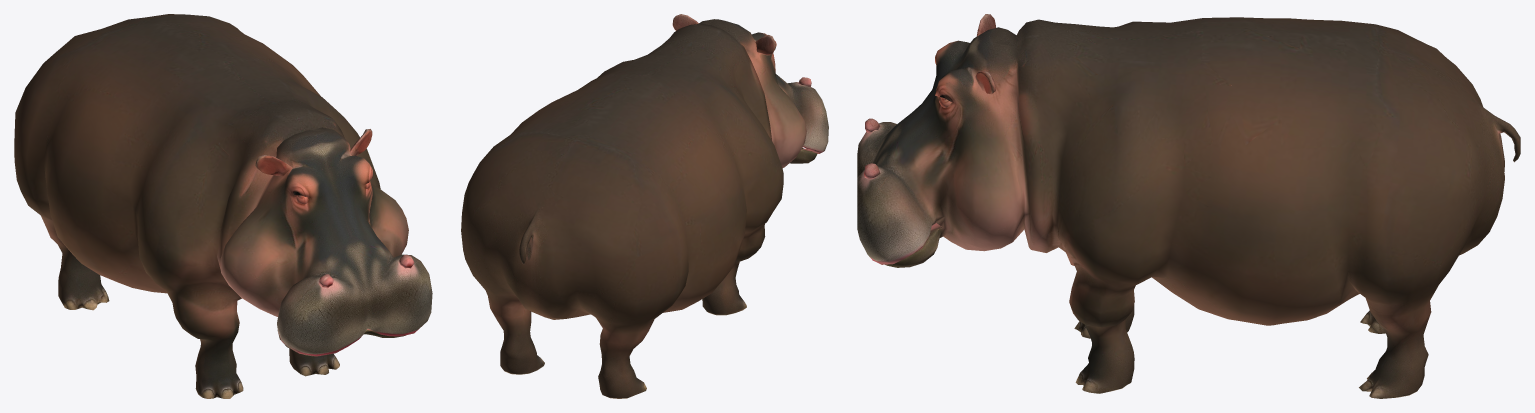
File: hippopotamus.glb
3 renders of one model, left to right at view 1: azimuth 30°, elevation 25°; view 2: azimuth 150°, elevation 25°; view 3: azimuth 270°, elevation 25°, orthographic. The views are drawn at different scales.
Bounding box in the file's own units: 0.5293 × 0.5469 × 1.
1 material, 1 textured.
